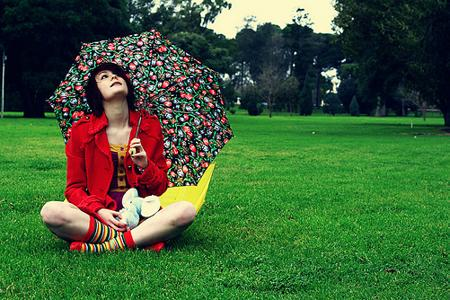person: (40, 64, 198, 256)
